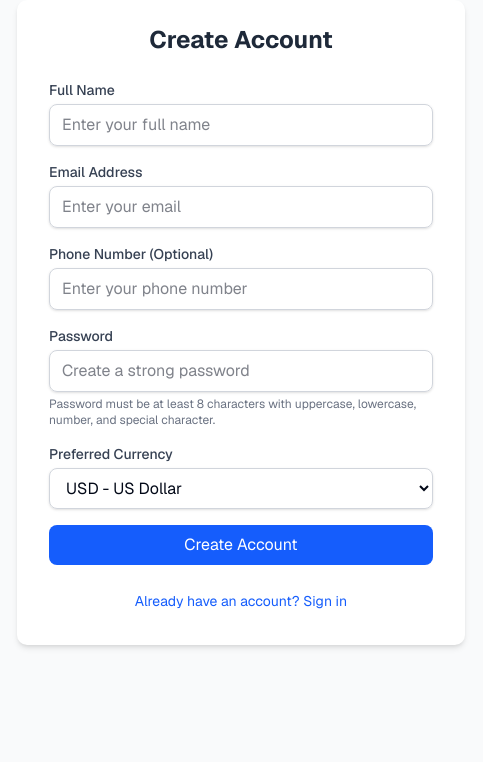
RegisterForm › should validate phone number format
Type "invalid-phone" into the field labelled "Phone Number (Optional)" at (241, 289), box [49, 268, 433, 310]
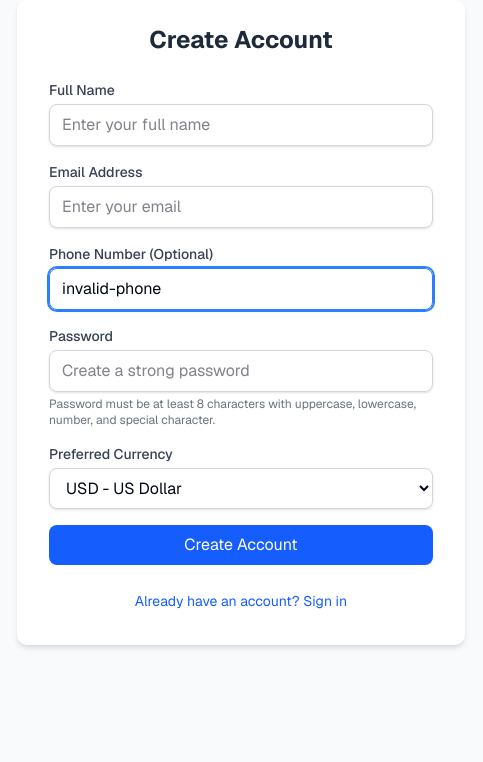
Click the button "Create Account" at (241, 545), box [49, 525, 433, 565]
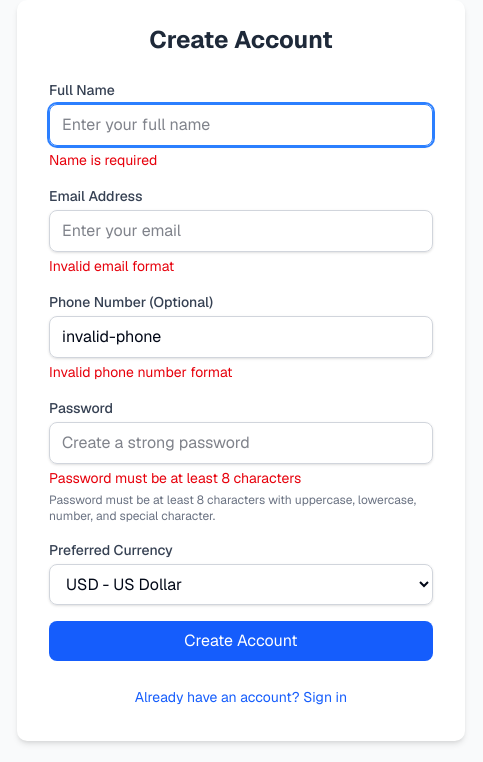
expect the text "Invalid phone number format" is shown: met, box [49, 363, 232, 381]
